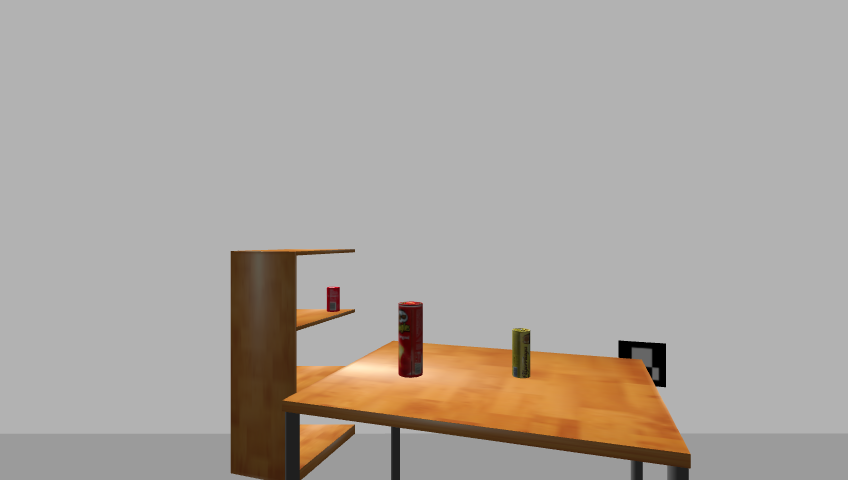aruco marker: (613, 338, 671, 391)
biscuits pack: (510, 328, 532, 380)
bookshelf: (225, 246, 359, 480)
coke can: (324, 286, 342, 313)
dinner table: (282, 339, 700, 479)
pringles can: (396, 301, 424, 379)
